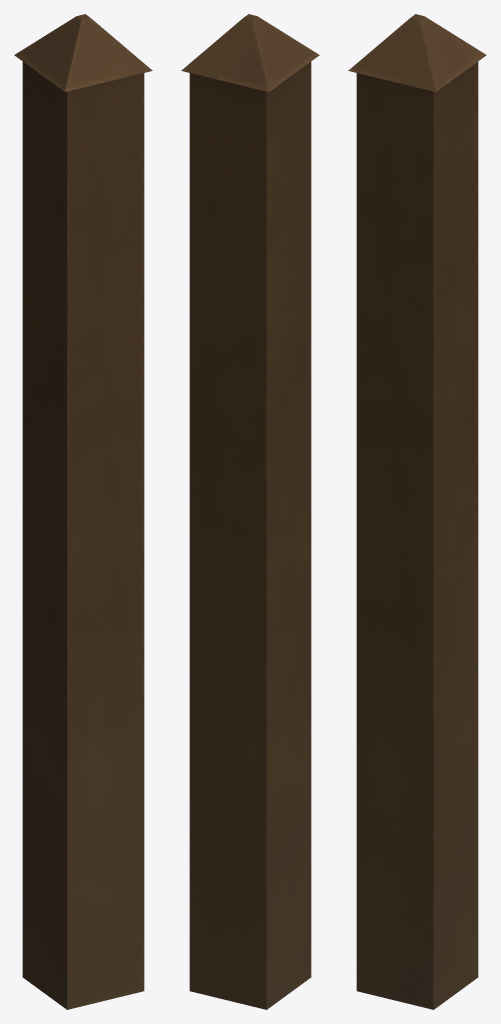
The model's file is wood-post.glb.
3 views of the same model, side by side, from view 1: azimuth 30°, elevation 25°; view 2: azimuth 150°, elevation 25°; view 3: azimuth 330°, elevation 25° (orthographic).
Visible parts, largest first — view 1: hull; view 2: hull; view 3: hull.
Boxes of the visible parts, left/top/right/bottom form: hull: left=14, top=14, right=152, bottom=1009; hull: left=181, top=14, right=319, bottom=1009; hull: left=348, top=14, right=486, bottom=1009.
Bounding box in the file's own units: 0.16 × 1.68 × 0.16.
Materials: 1 (1 with a texture image).
